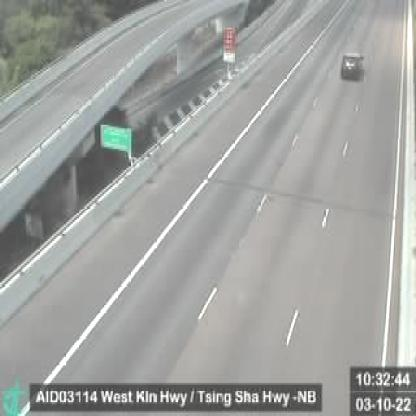Car: (342, 50, 363, 78)
